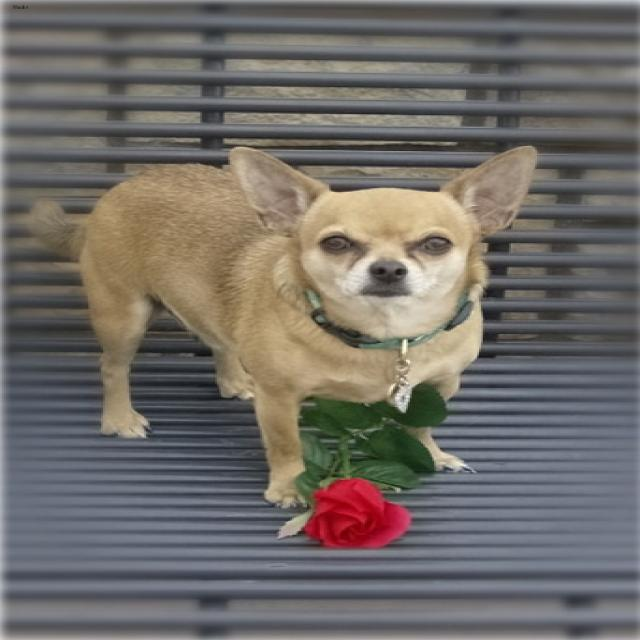dog-chihuahua: (9, 138, 545, 524)
